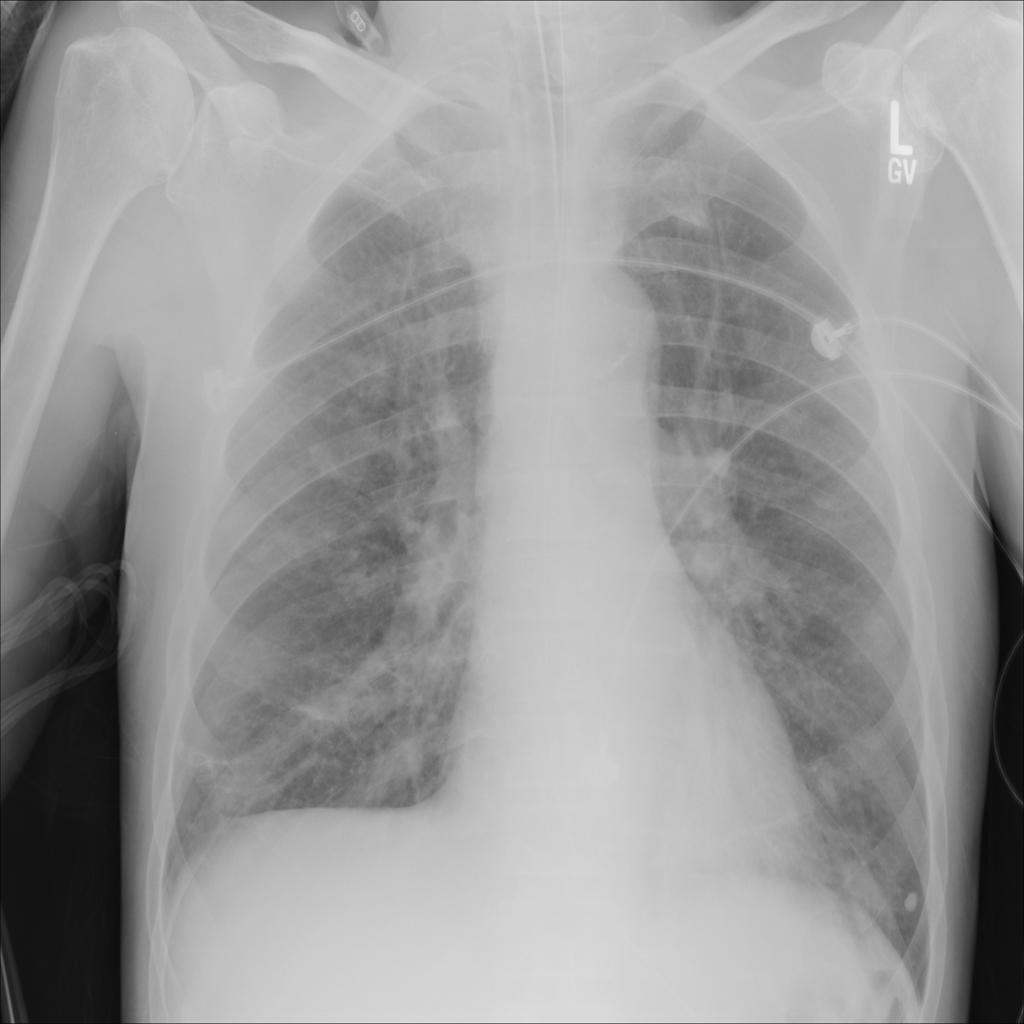nodule: (838, 591, 912, 666), (803, 743, 865, 824), (893, 878, 927, 919)
